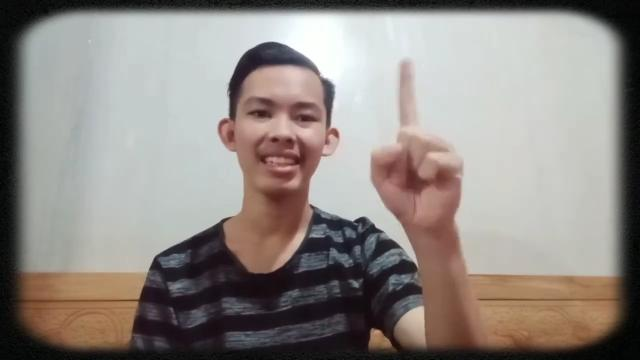Z: (362, 56, 470, 230)
